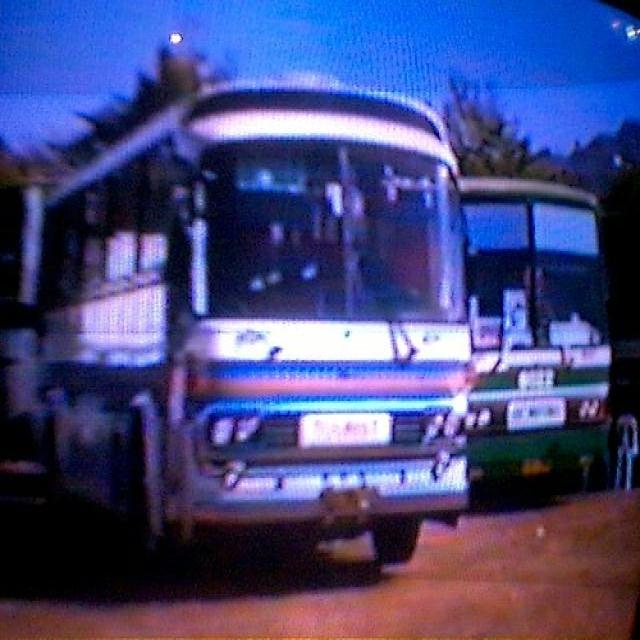bus: (42, 78, 472, 562), (472, 175, 608, 482)
